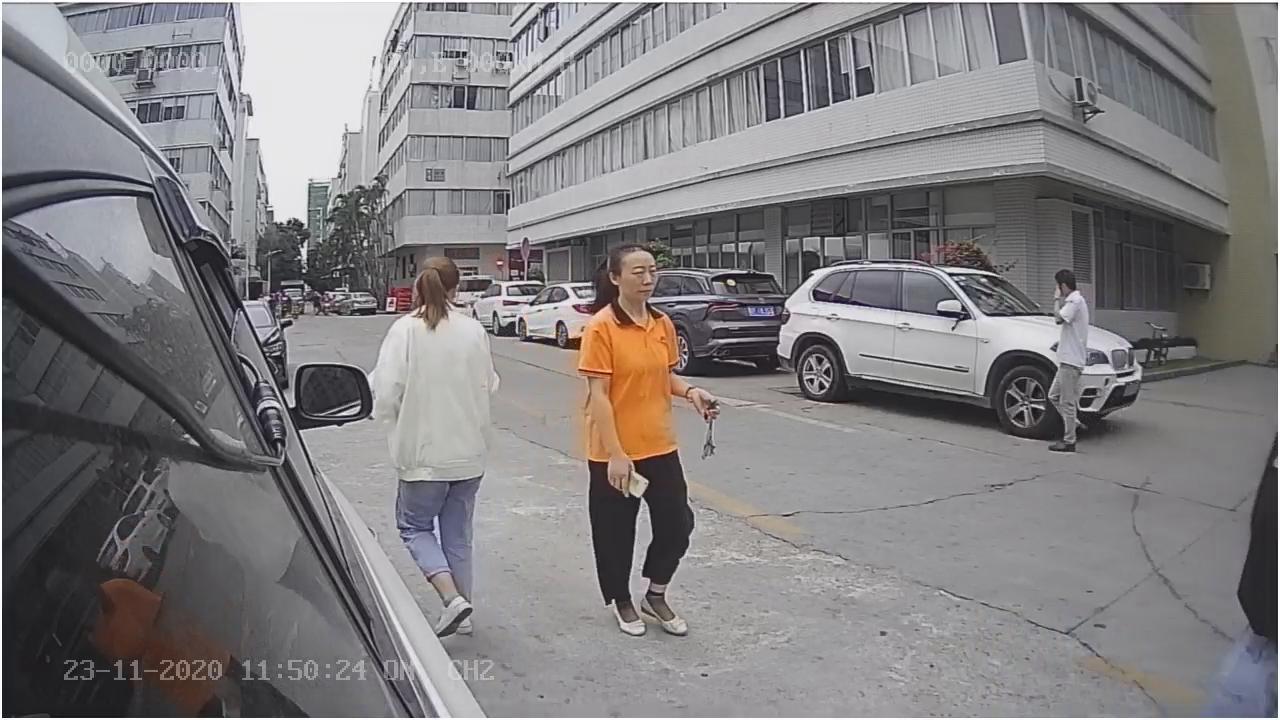person: (579, 229, 718, 642), (372, 246, 502, 458), (1040, 269, 1092, 452)
